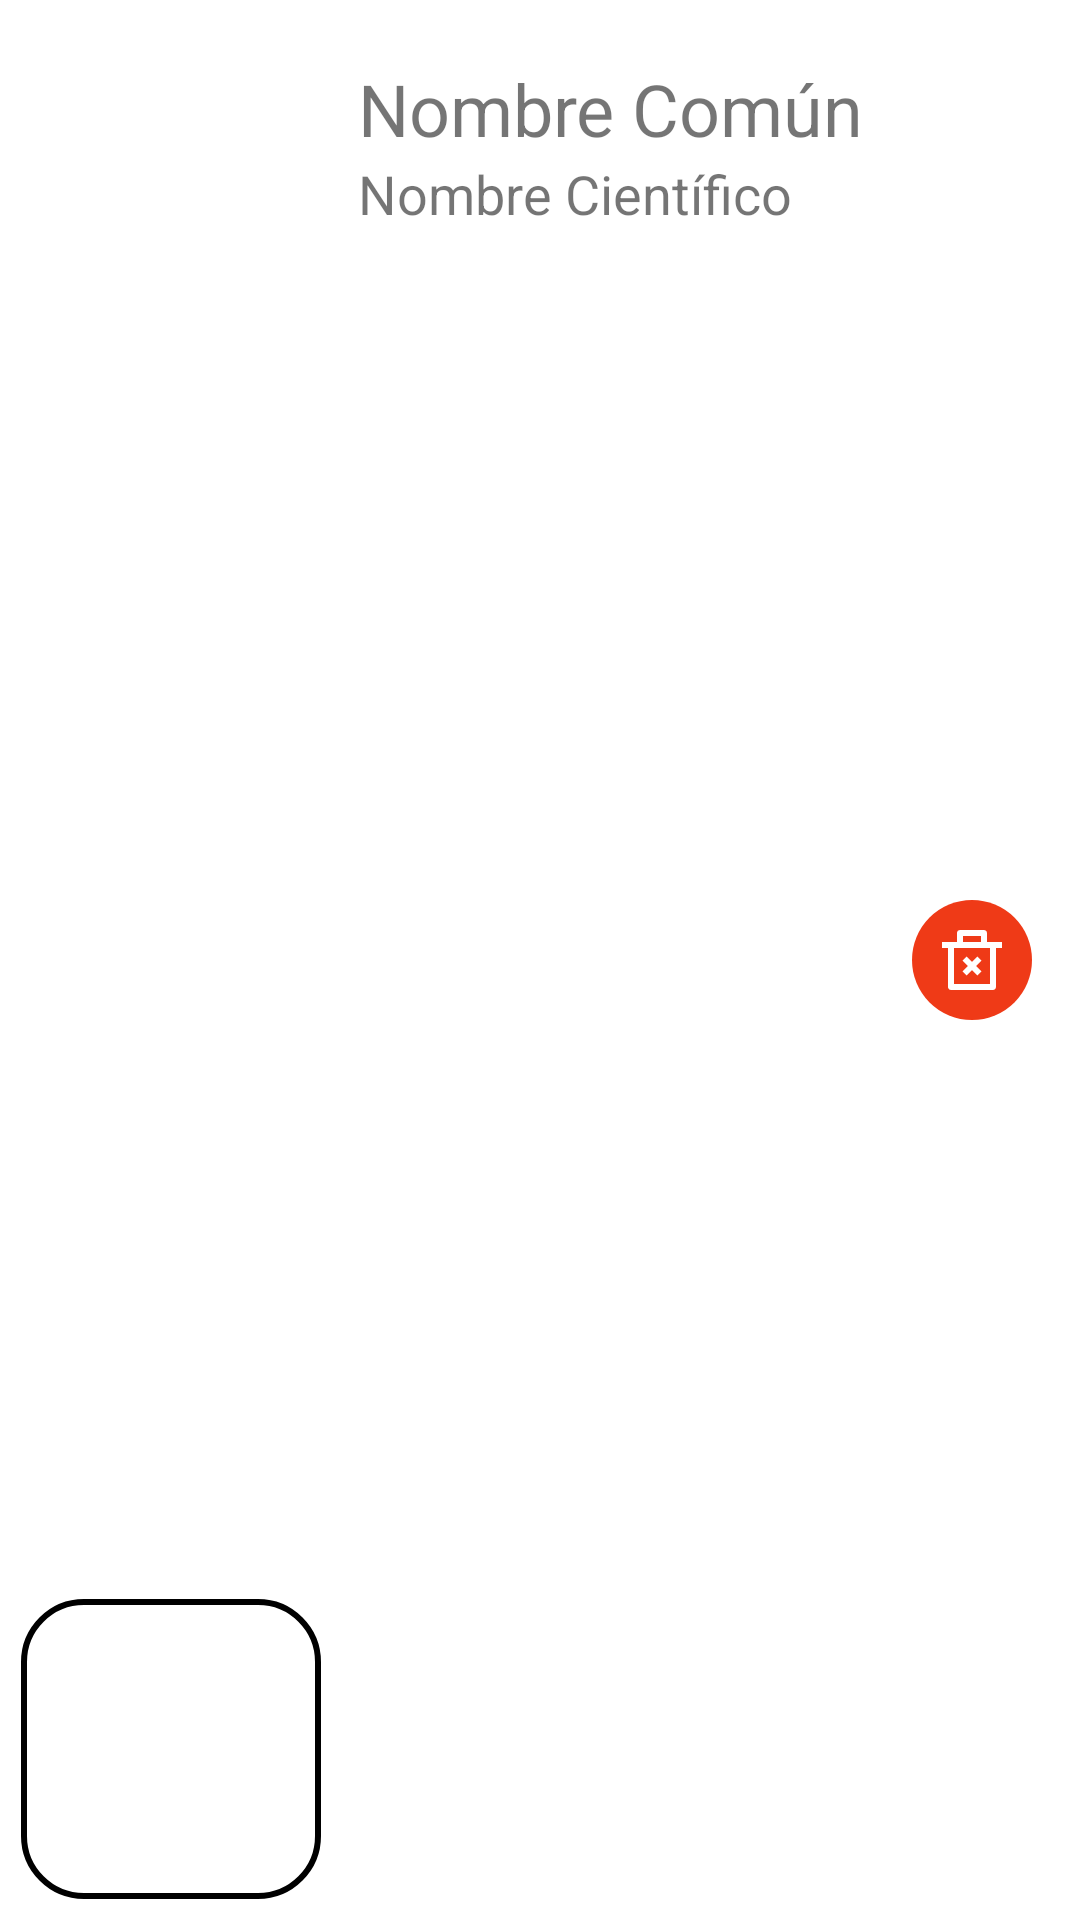

Locate icon controls on the screen. Image size 1080w x 1920h, boxes as [x1, y1, x2, y2].
delete: [912, 900, 1032, 1020]
